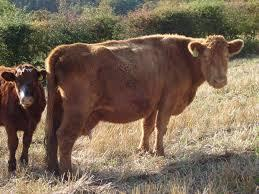cow: (46, 34, 245, 176), (0, 64, 47, 173)
